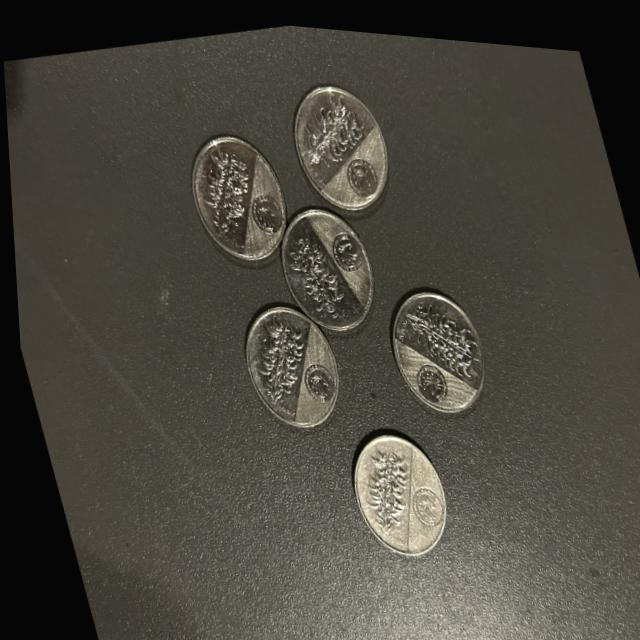5_New_Back: (176, 124, 269, 245), (337, 424, 427, 548), (227, 299, 317, 413), (392, 277, 486, 386), (281, 70, 372, 178), (279, 225, 361, 339)
